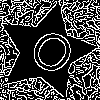O: (20, 26, 79, 86)
